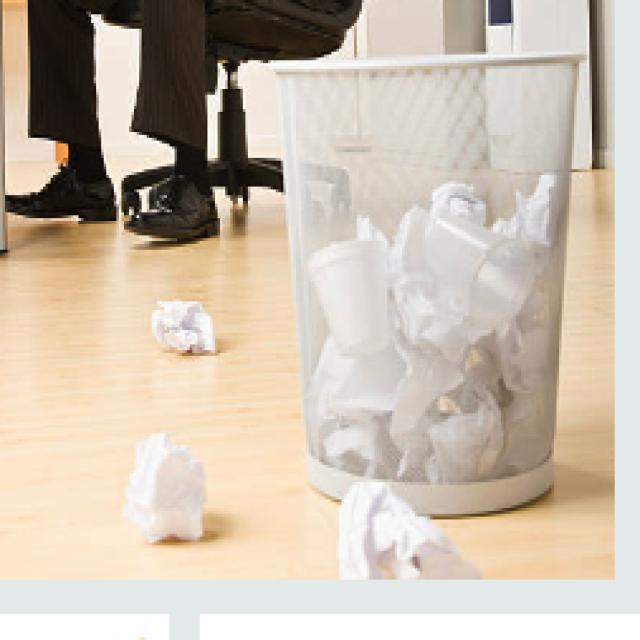KertasBekas: (271, 49, 584, 514)
